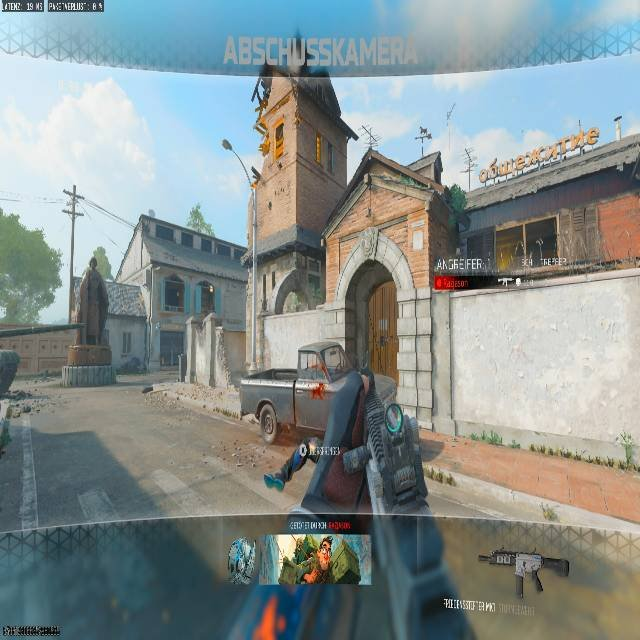player: (266, 367, 473, 640)
